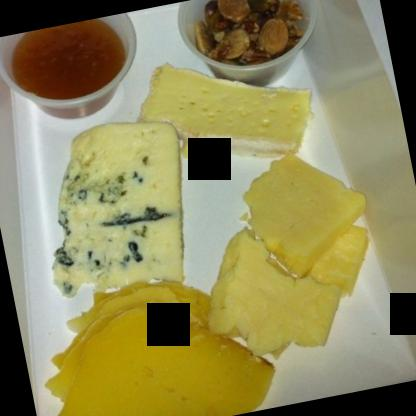cheese: (36, 111, 196, 312), (43, 280, 278, 415), (140, 40, 316, 180), (192, 212, 348, 367), (232, 144, 370, 286)
